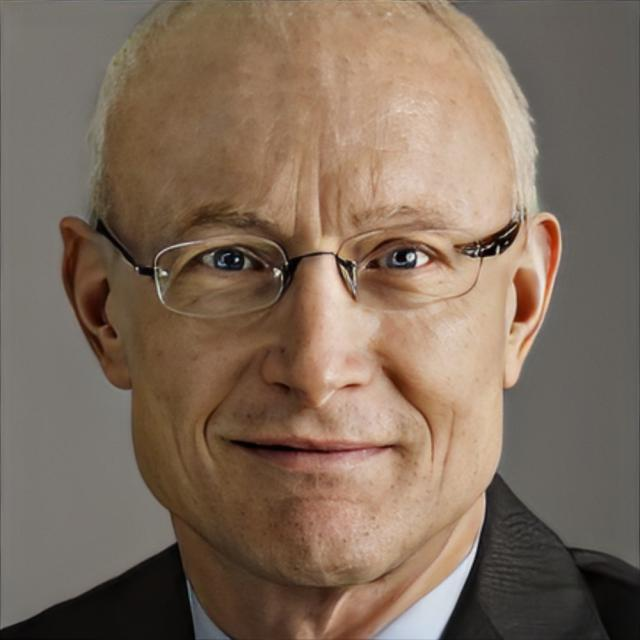content: (125, 52, 509, 582)
